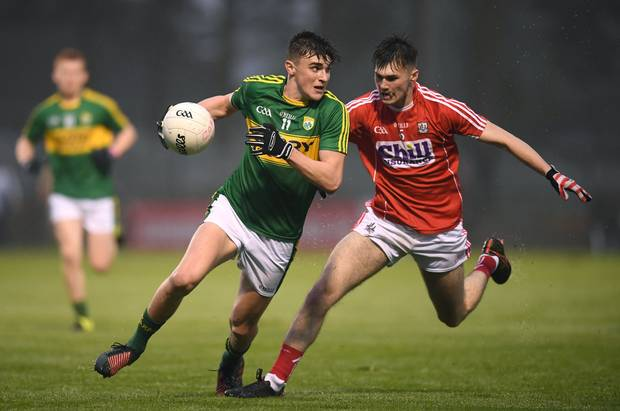ball: (161, 100, 213, 150)
player: (356, 28, 510, 330), (219, 19, 348, 353)
